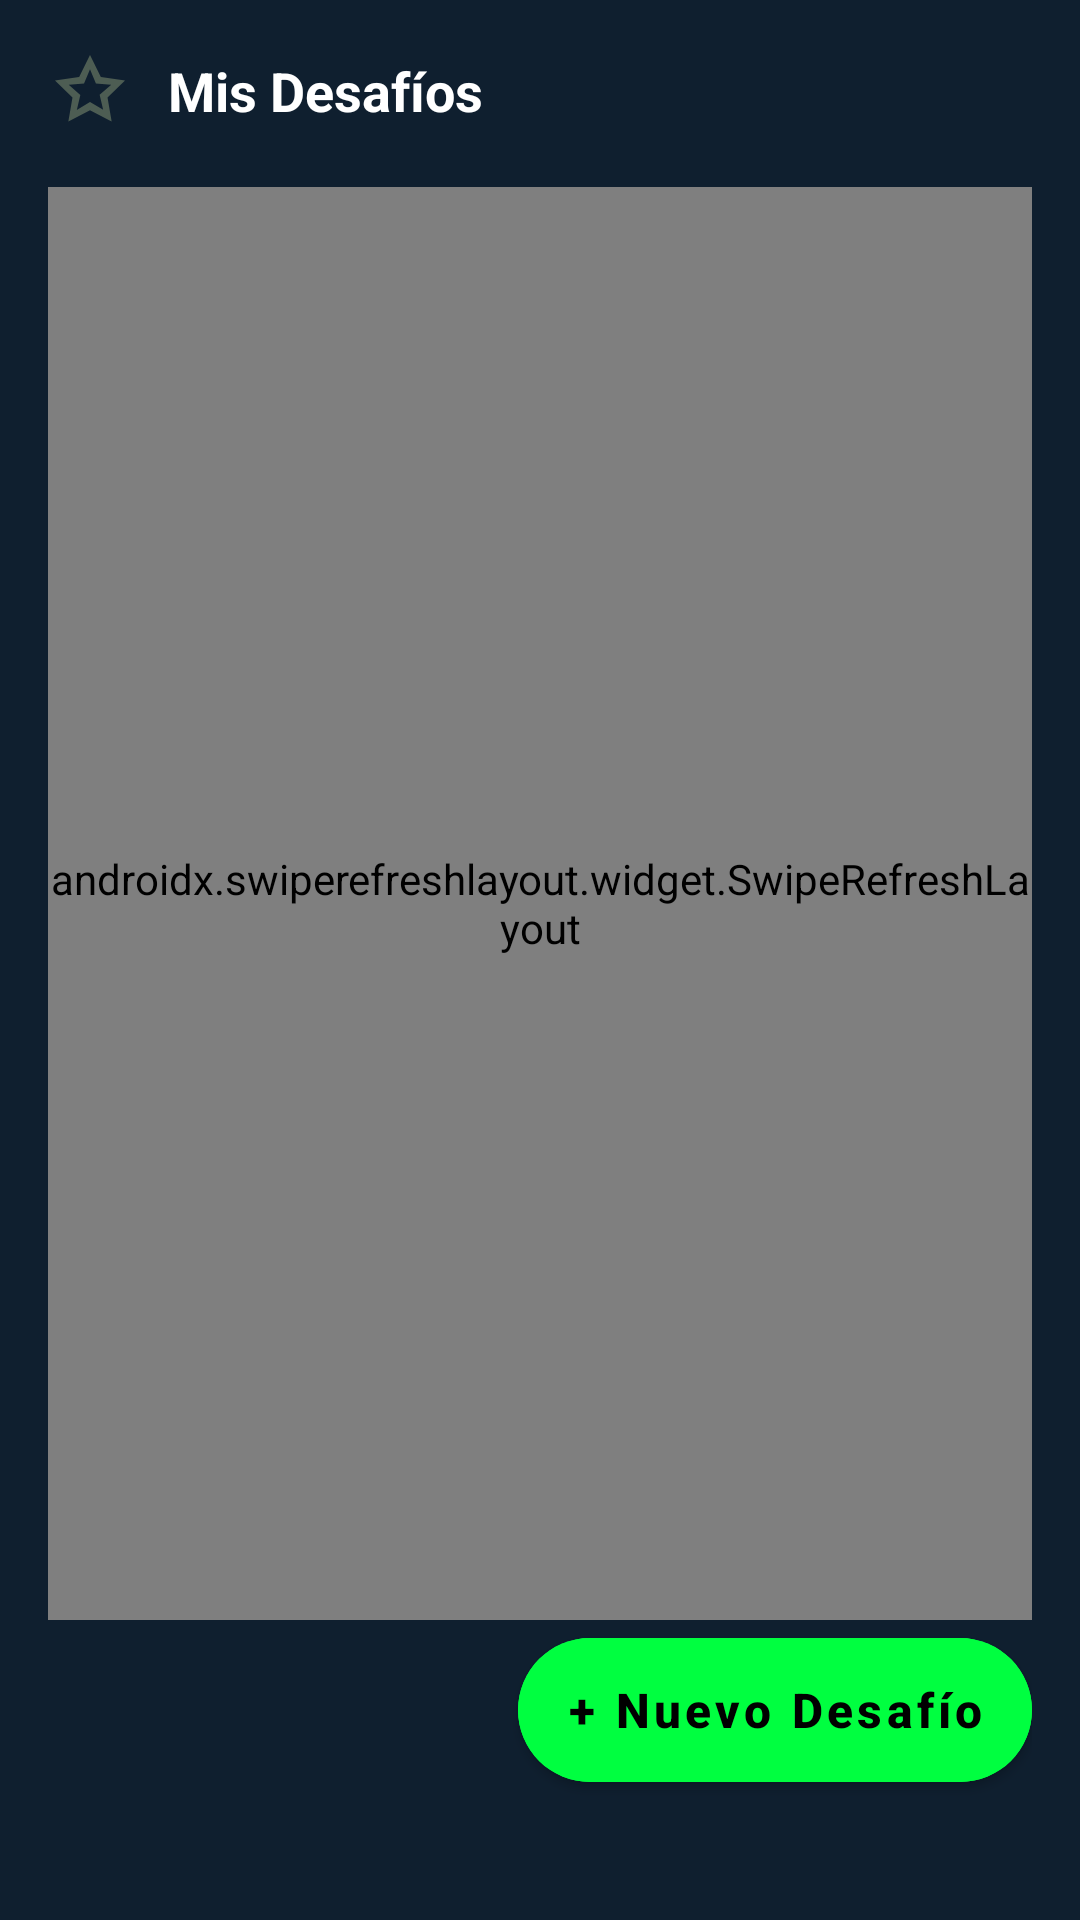

Icon bounding boxes for this 1080 x 1920 phone screenshot, format [left=x1, top=y1, right=x2, bottom=y2]:
challenges: [left=55, top=56, right=125, bottom=121]
